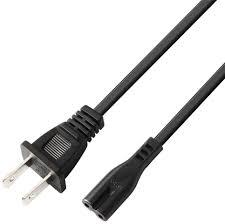cable: (3, 0, 216, 200), (83, 64, 225, 220)
